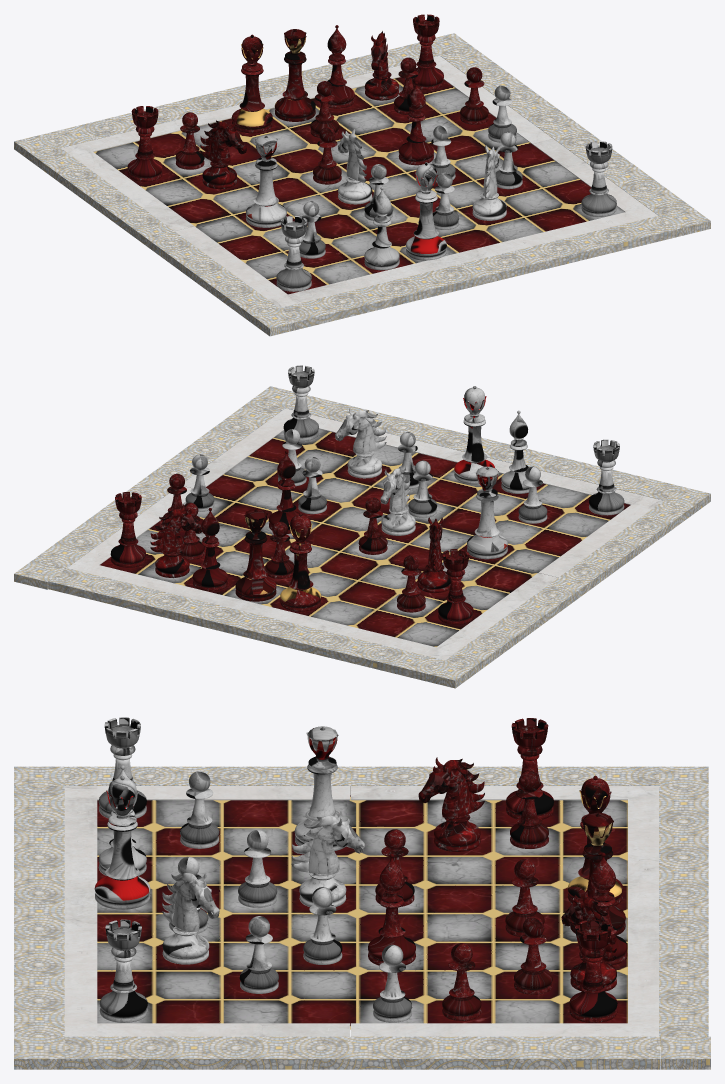
Rendered from Chess.fbx.
The picture shows the model from 3 angles, top to bottom: view 1: azimuth 30°, elevation 25°; view 2: azimuth 150°, elevation 25°; view 3: azimuth 270°, elevation 25°; orthographic projection. The views are drawn at different scales.
Parts seen in each view (by area): view 1: polySurface36; view 2: polySurface36; view 3: polySurface36.
Part boxes in pixels (left/top/right/bottom): polySurface36: left=14, top=14, right=710, bottom=336; polySurface36: left=14, top=365, right=710, bottom=688; polySurface36: left=14, top=717, right=710, bottom=1069.
Bounding box in the file's own units: 139 × 29.15 × 140.
16 materials, 15 textured.
